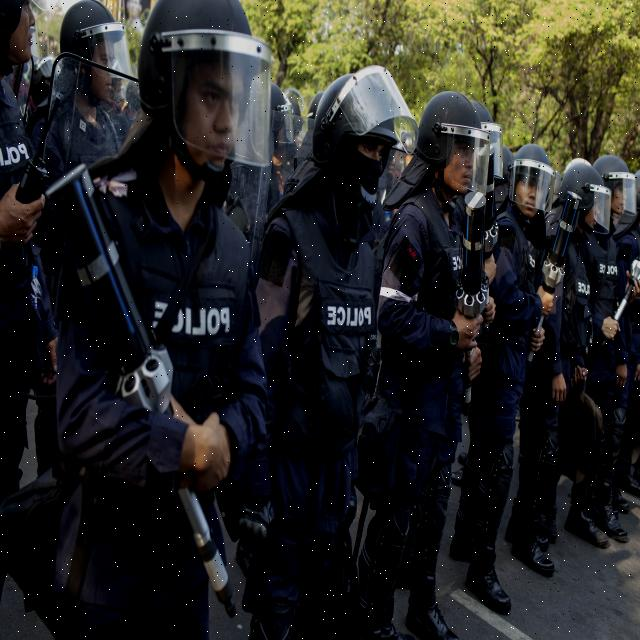police: (19, 0, 282, 640), (232, 26, 418, 640), (362, 72, 501, 640), (444, 92, 564, 640), (522, 110, 640, 590)
